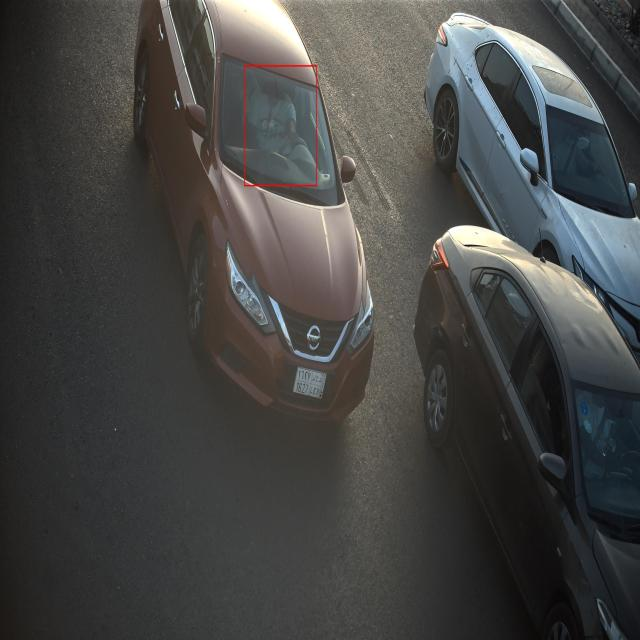windshield: (217, 45, 342, 212), (563, 372, 640, 534), (545, 103, 634, 223)
